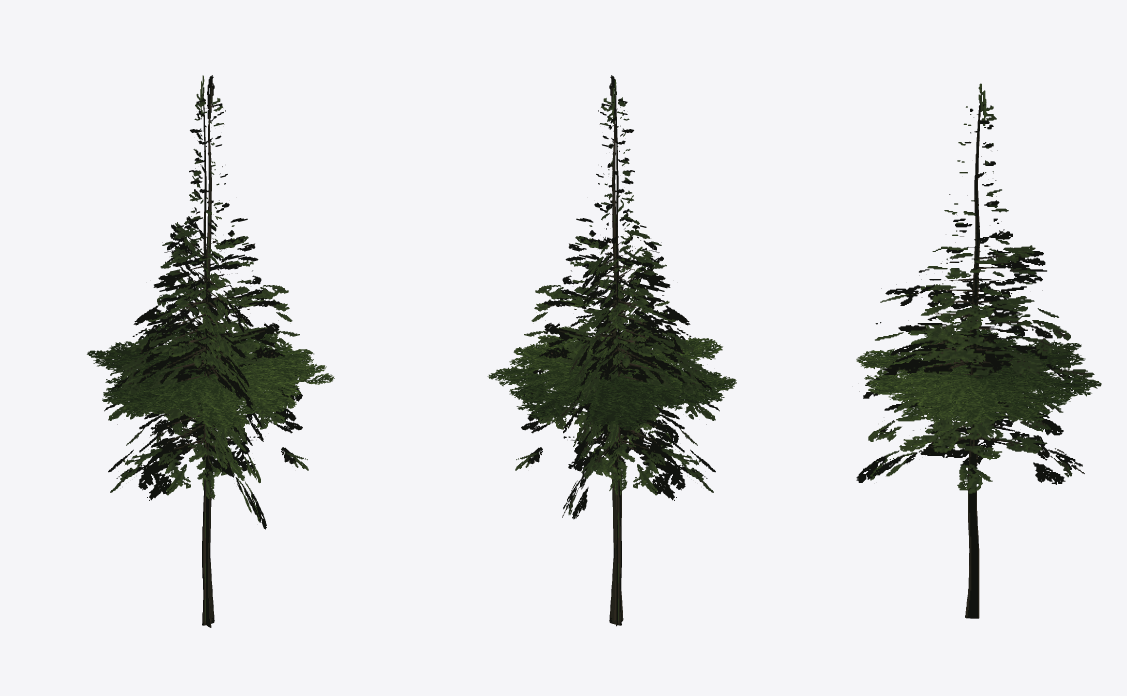
The model's file is far.glb.
The picture shows the model from 3 angles, left to right: view 1: azimuth 30°, elevation 25°; view 2: azimuth 150°, elevation 25°; view 3: azimuth 270°, elevation 25°; orthographic projection. The views are drawn at different scales.
Parts seen in each view (by area): view 1: far; view 2: far; view 3: far.
Part boxes in pixels (x1,y1,x2,y2): far: [87, 75, 334, 627]; far: [487, 75, 736, 626]; far: [856, 83, 1101, 618].
Bounding box in the file's own units: 9.03 × 20.04 × 9.03.
2 materials, 2 textured.
